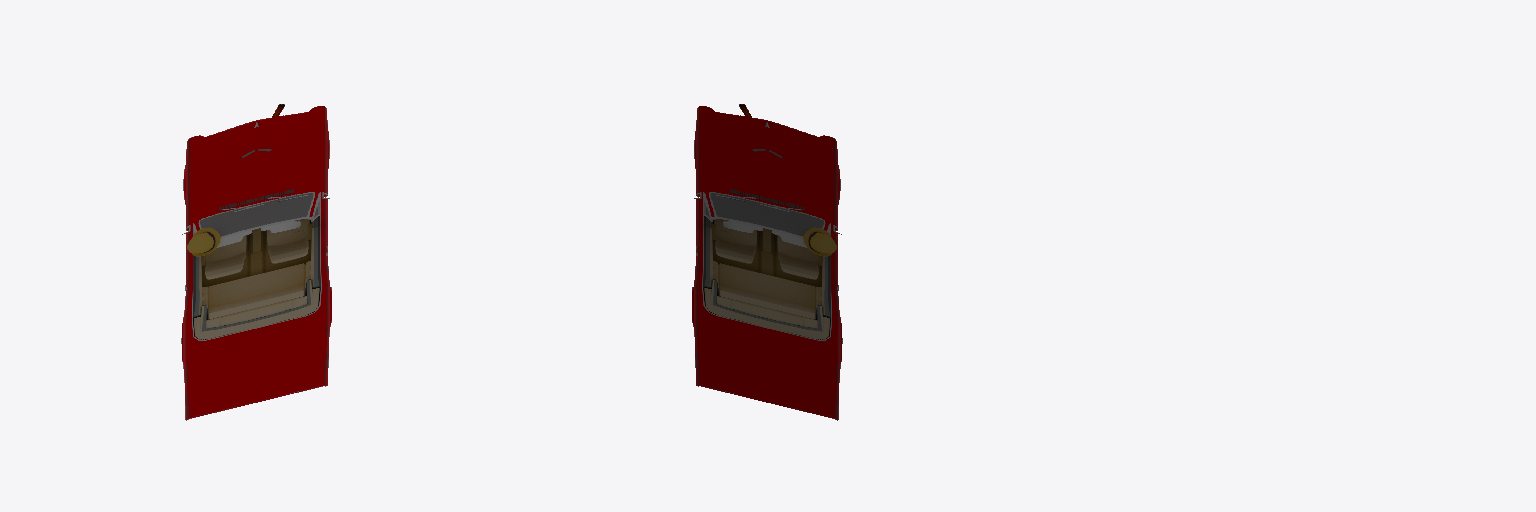
The picture shows the model from 3 angles: view 1: azimuth 30°, elevation 25°; view 2: azimuth 150°, elevation 25°; view 3: azimuth 270°, elevation 25°; orthographic projection.
Visible parts, largest first — view 1: Plane; view 2: Plane; view 3: none.
Boxes of the visible parts, box(x1,y1,x2,y2) form: Plane: box(181, 104, 331, 420); Plane: box(692, 104, 842, 420).
Size of the model in its own units: 0.02 by 0.02 by 0.
1 materials, 1 textured.